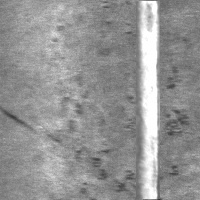rolled-in_scale: (49, 89, 136, 193), (160, 66, 192, 175), (97, 1, 137, 44)
scratches: (136, 1, 160, 199)
